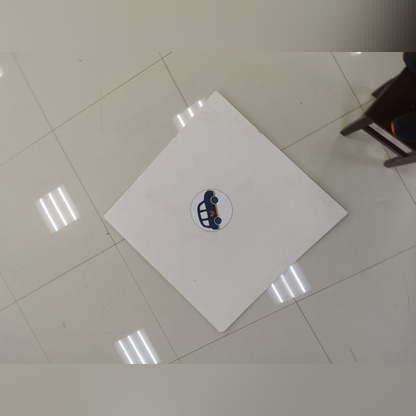car: (180, 182, 228, 227)
